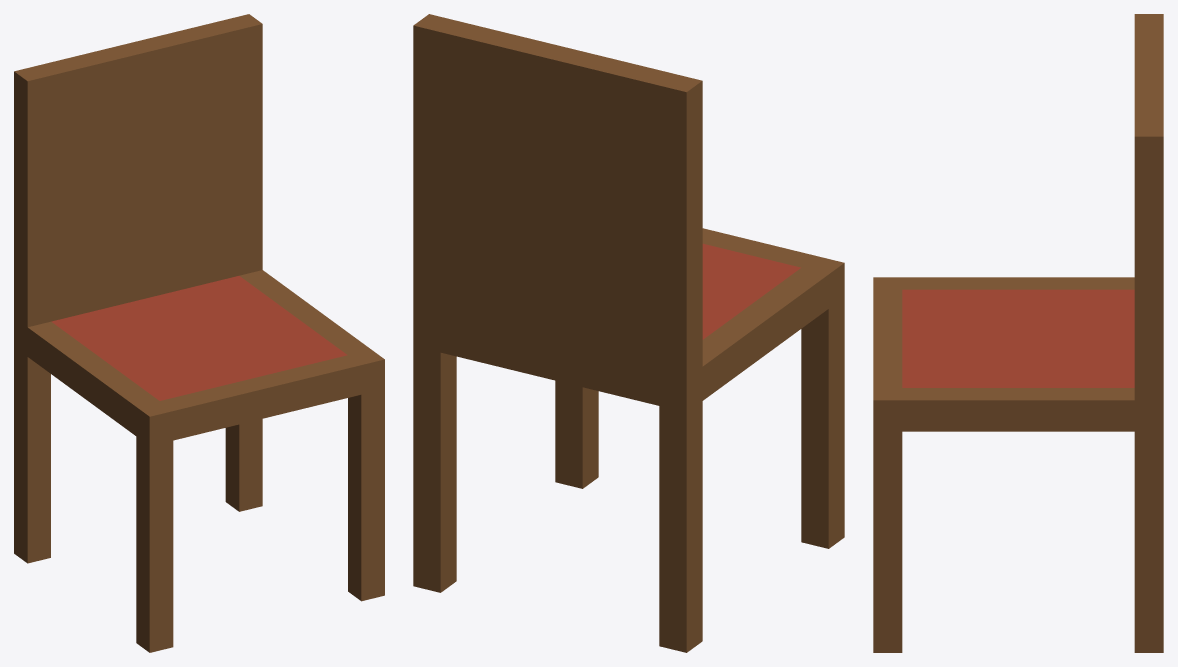
The model's file is chair.glb.
The picture shows the model from 3 angles, left to right: view 1: azimuth 30°, elevation 25°; view 2: azimuth 150°, elevation 25°; view 3: azimuth 270°, elevation 25°; orthographic projection. The views are drawn at different scales.
Parts seen in each view (by area): view 1: chair; view 2: chair; view 3: chair.
Boxes of the visible parts, x1,y1,x2,y2 form: chair: (14,14,384,652); chair: (413,14,844,652); chair: (873,14,1163,652).
Size of the model in its own units: 0.5 by 0.98 by 0.5.
